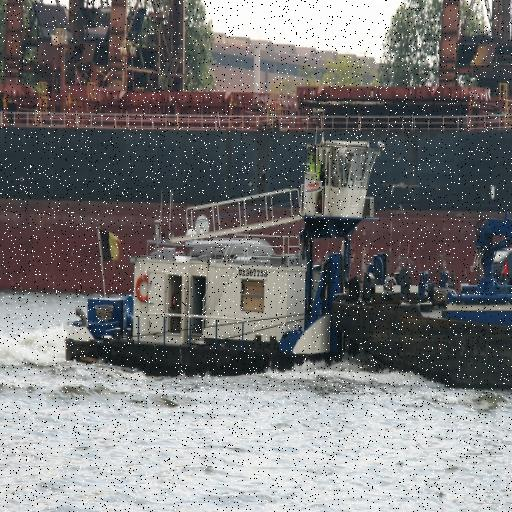tugboat: (63, 131, 391, 400)
